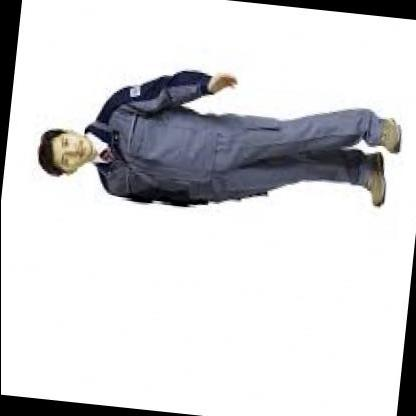safety-shoe: (359, 155, 396, 214), (375, 100, 403, 150)
